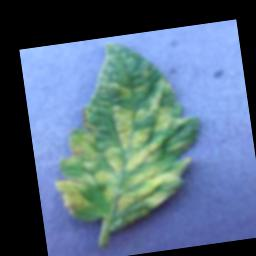Leaf_Mold: (85, 88, 198, 216), (52, 105, 102, 174), (49, 171, 100, 219)
